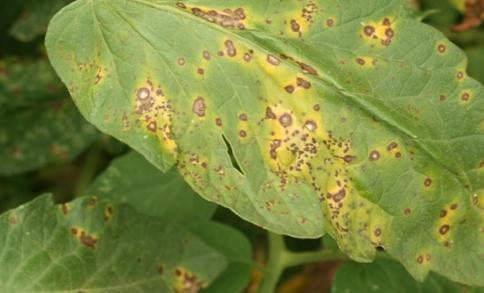Tomato Septoria leaf spot: (47, 0, 484, 282)
